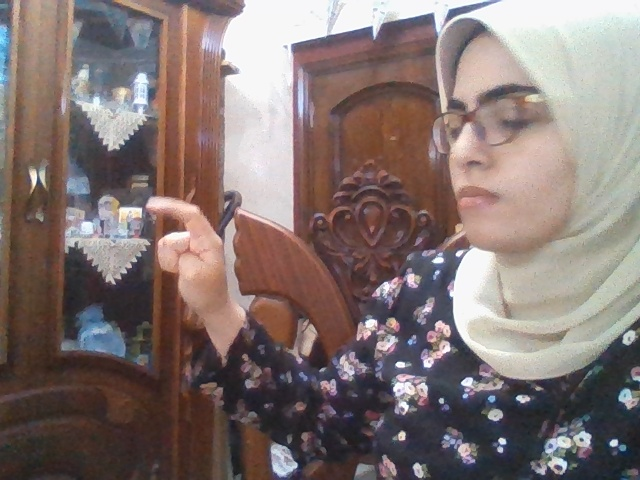X: (147, 195, 225, 314)
